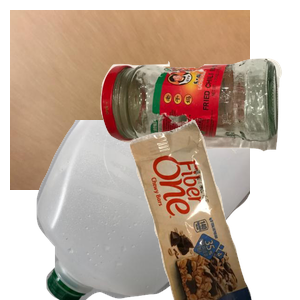cardboard: (10, 10, 250, 190)
glass: (98, 56, 300, 201)
plastic: (34, 120, 274, 300)
trash: (127, 120, 300, 300)
